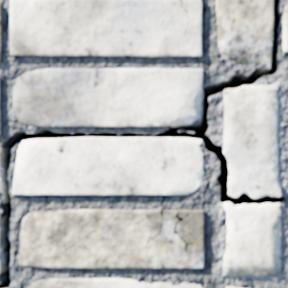brick: (11, 0, 202, 57), (14, 69, 203, 126), (20, 209, 204, 267), (14, 138, 203, 194), (216, 0, 272, 68), (27, 278, 201, 287), (283, 5, 287, 52), (0, 148, 3, 197), (0, 5, 2, 62), (0, 216, 2, 273), (0, 78, 1, 135), (226, 286, 241, 287)
broken_brick: (224, 86, 281, 197), (223, 203, 280, 274)
crack: (0, 0, 286, 287), (174, 210, 184, 239), (157, 210, 168, 234), (144, 236, 155, 249), (185, 241, 193, 252)
